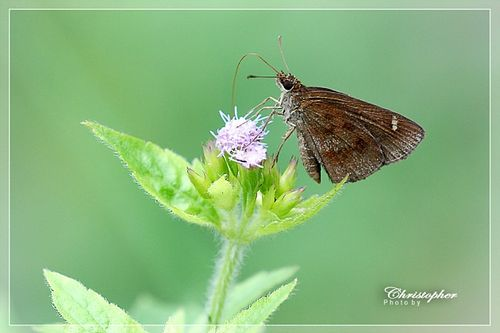Hesperiidae: (235, 35, 428, 185)
